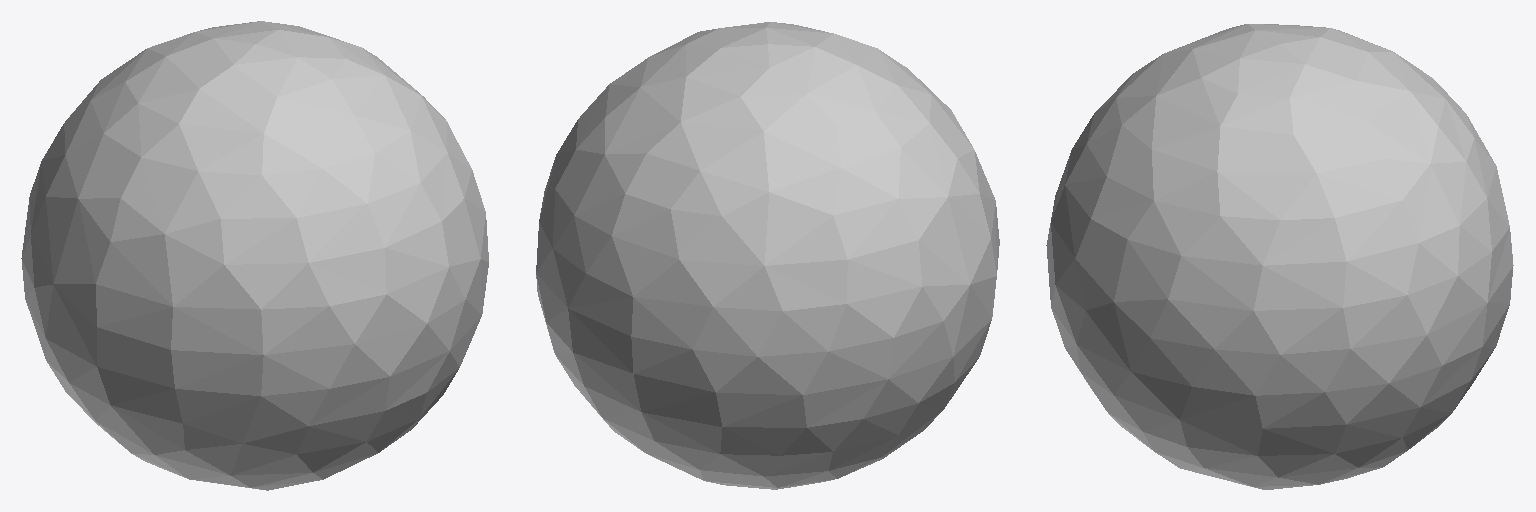
File: light_volume.obj
The picture shows the model from 3 angles: view 1: azimuth 30°, elevation 25°; view 2: azimuth 150°, elevation 25°; view 3: azimuth 270°, elevation 25°; orthographic projection.
Parts seen in each view (by area): view 1: Sphere; view 2: Sphere; view 3: Sphere.
Boxes of the visible parts, <box> form: Sphere: <box>21,21,488,490</box>; Sphere: <box>536,22,999,489</box>; Sphere: <box>1046,24,1513,489</box>.
Bounding box in the file's own units: 2 × 2 × 2.